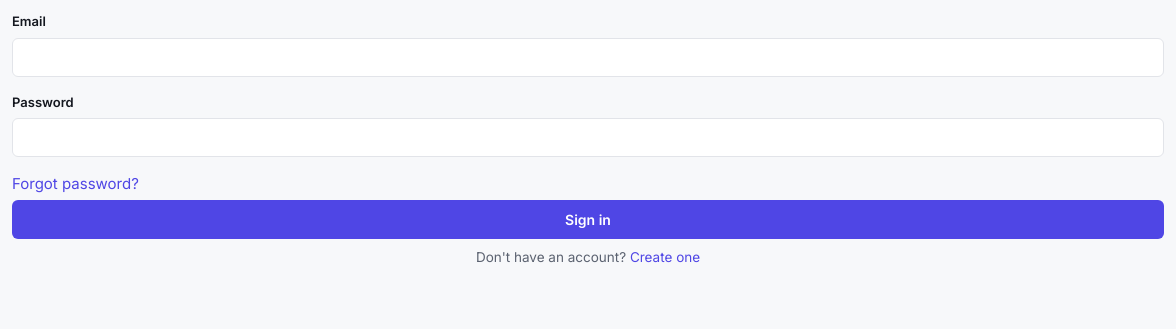
it: LoginForm › requires both fields before submitting
The width and height of the screenshot is (1176, 329).
Click the button "Sign in" at (588, 219), box [12,200,1164,238]
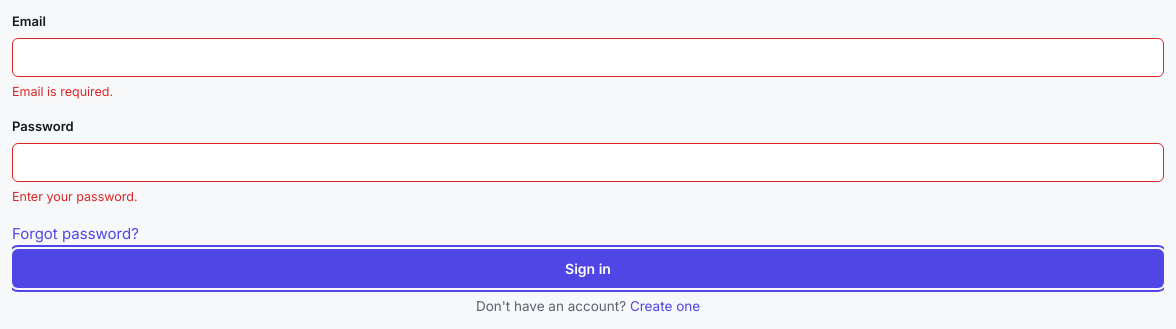
Result: the text "Email is required." is shown at [12,84,113,98]
Result: the text "Enter your password." is shown at [12,189,138,204]
